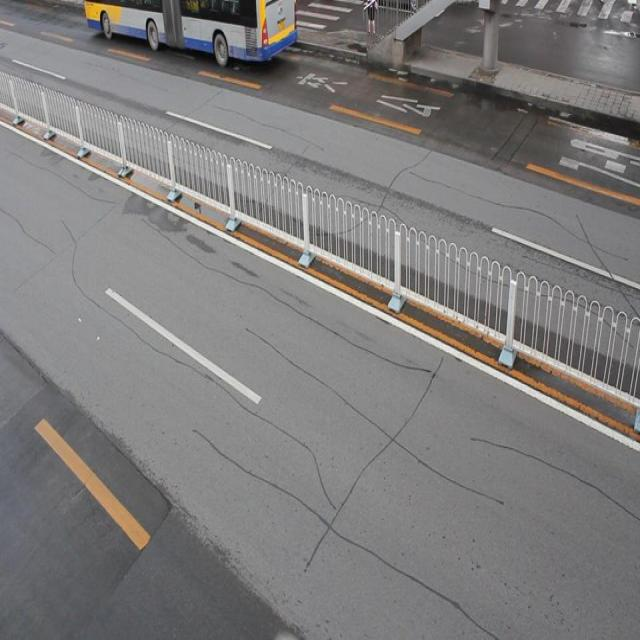van: (86, 1, 296, 63)
